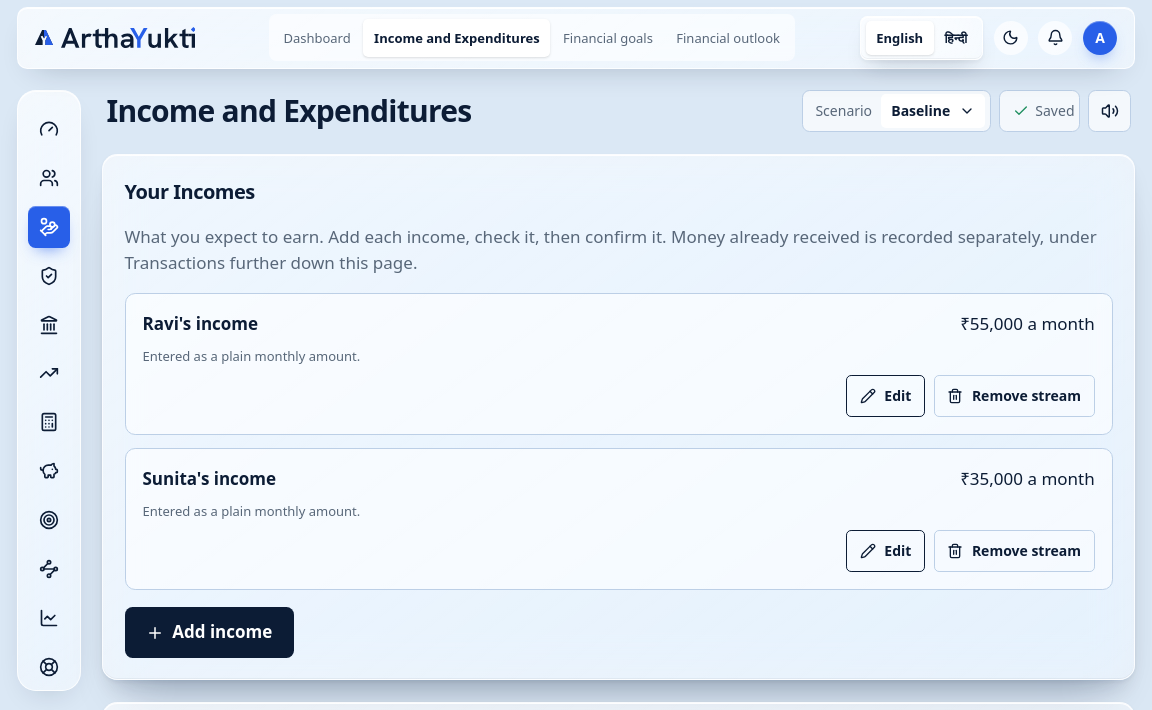
Test: Your Incomes: adding, editing and confirming › shows the problems beside the fields and saves nothing when the form is incomplete
Click the button "Add income" at (209, 633), box [124,607,294,658]
(page scrolled)
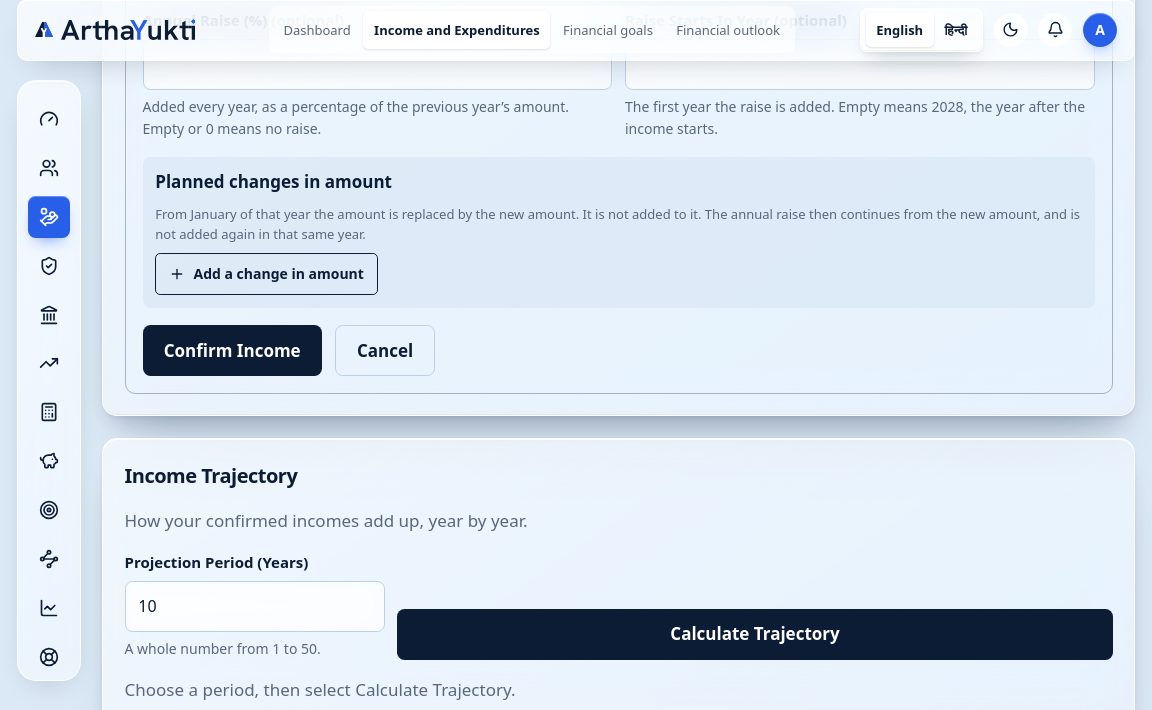
Expected: the text "Give this stream a name." is not shown
Click the button "Confirm Income" at (232, 351), box [142,325,322,376]
(page scrolled)
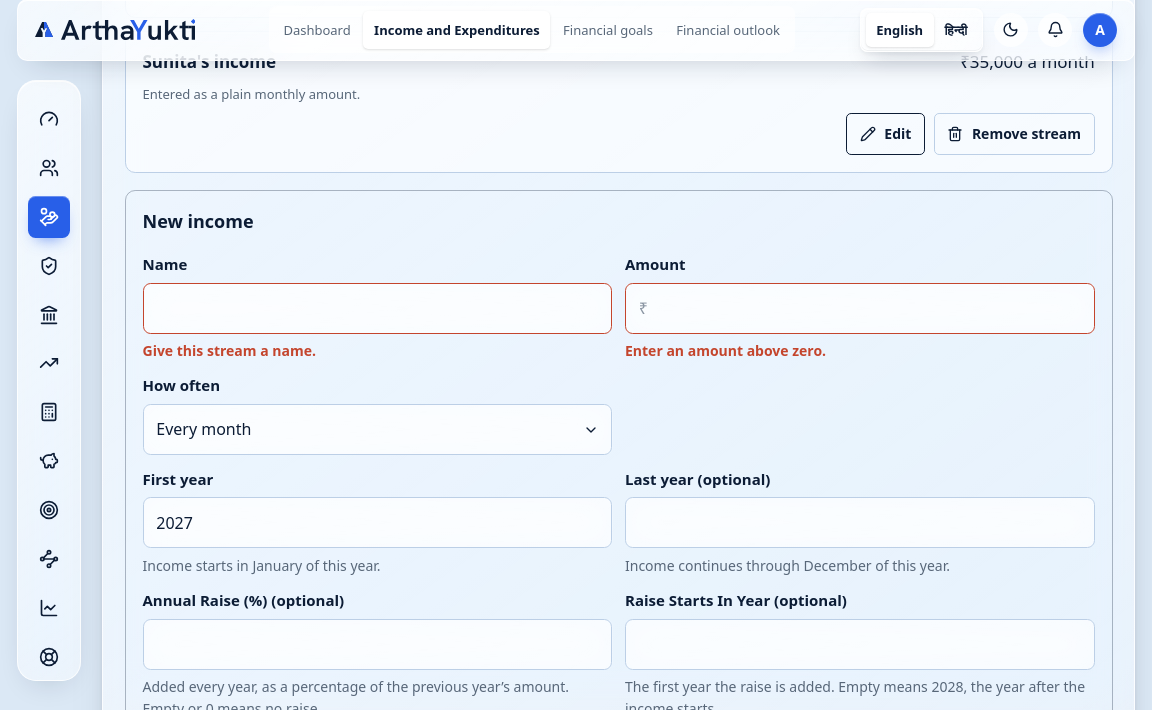
Expected: the text "Give this stream a name." is shown, [142,341,316,360]
Expected: the text "Enter an amount above zero." is shown, [625,341,826,360]
